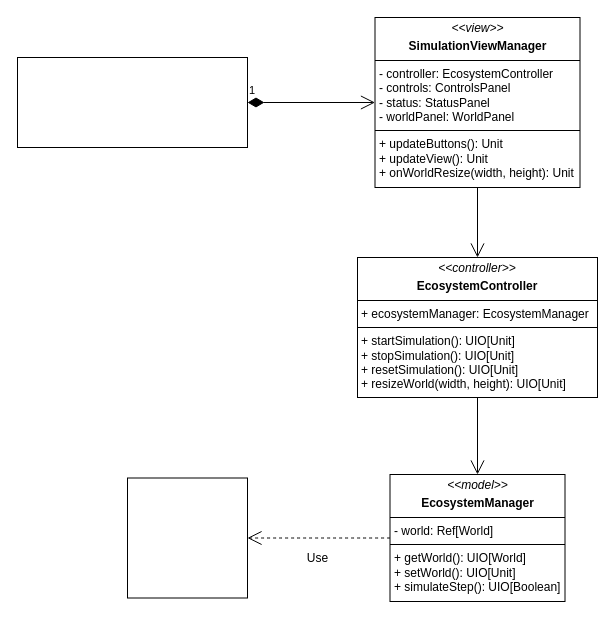
Image size: 615x619. Some labels were removed from this diagram. Here are the shapes that lost their labels. From the top down, the centre of each, then its label:
(132,102): <<view>> SimulationView + viewManager: SimulationViewManager
(187,537): <<model>> World - wolves: List[Wolf] - sheep: List[Sheep] - grass: List[Grass]
